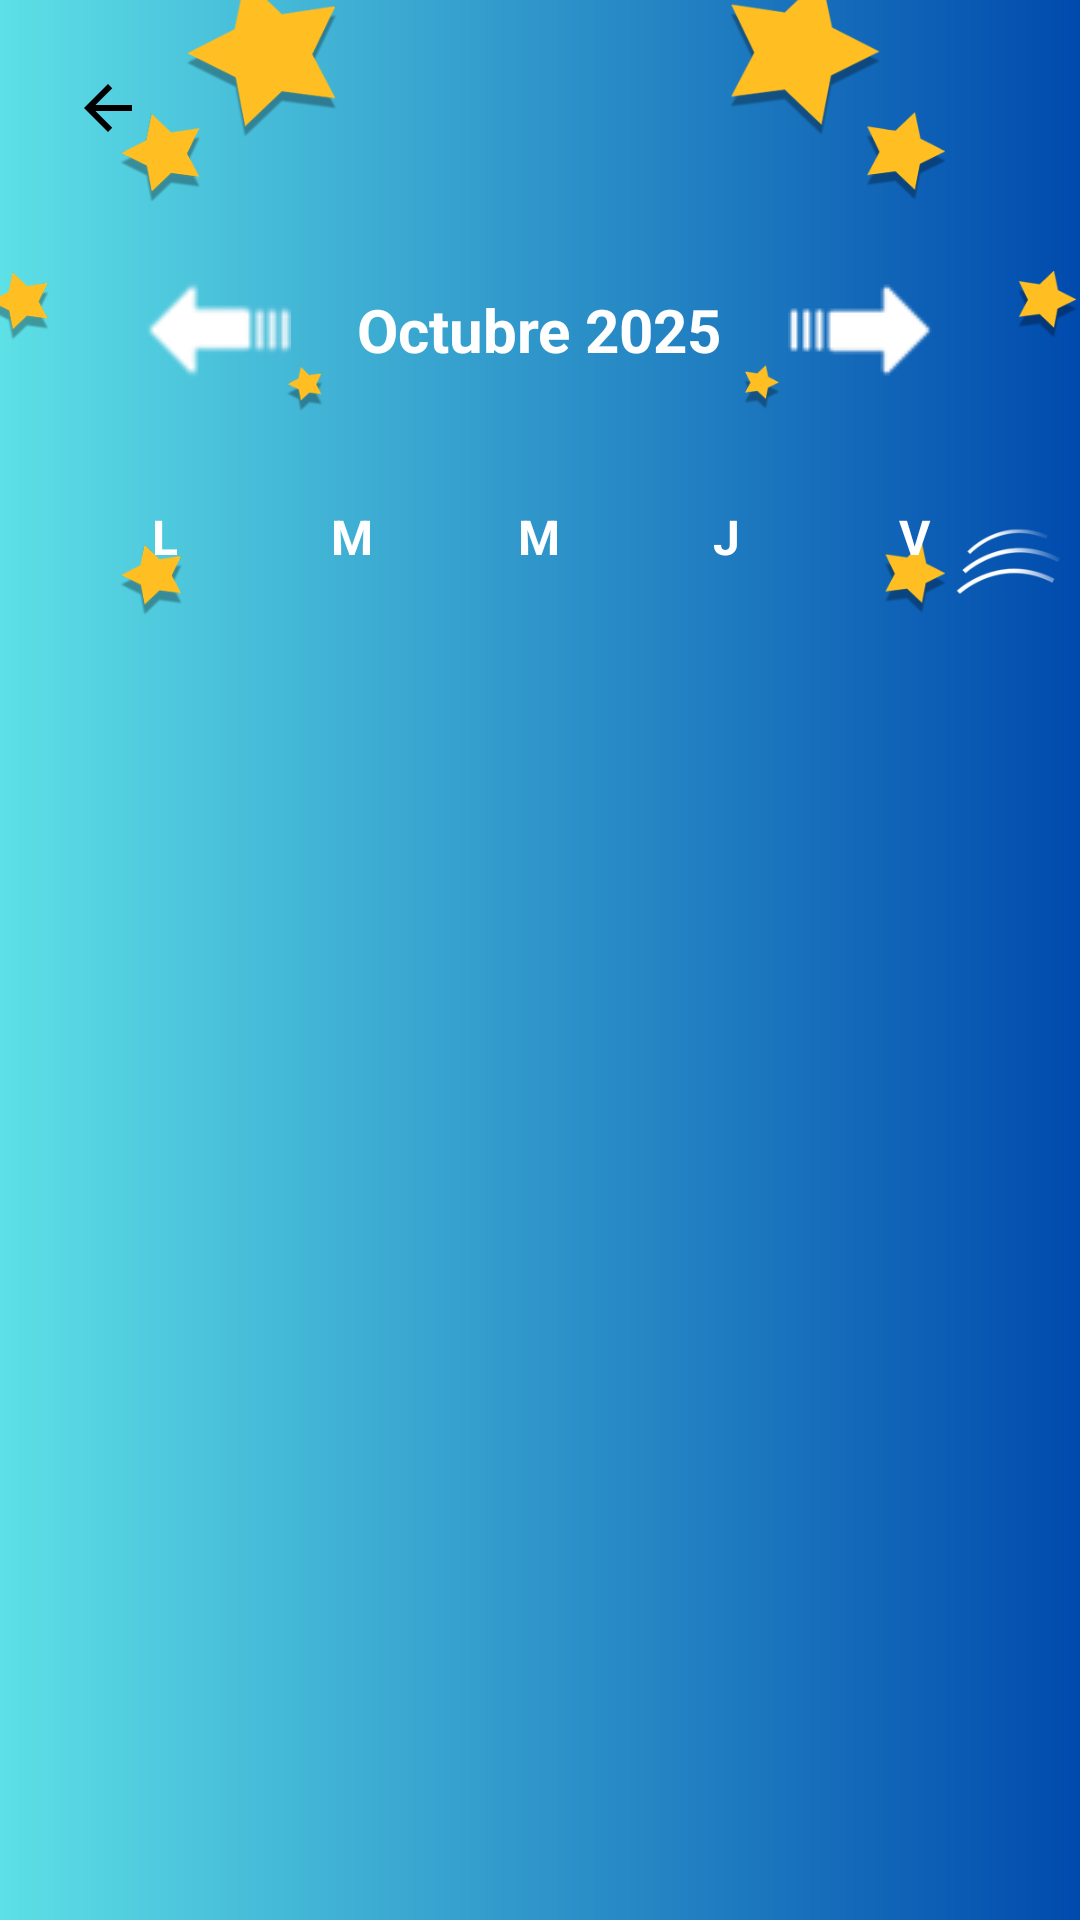

Locate icon controls on the screen. Image size 1080w x 1920h, boxes as (x1, y1, x2, y2).
Mes anterior: (149, 285, 291, 375)
Mes siguiente: (788, 285, 930, 376)
